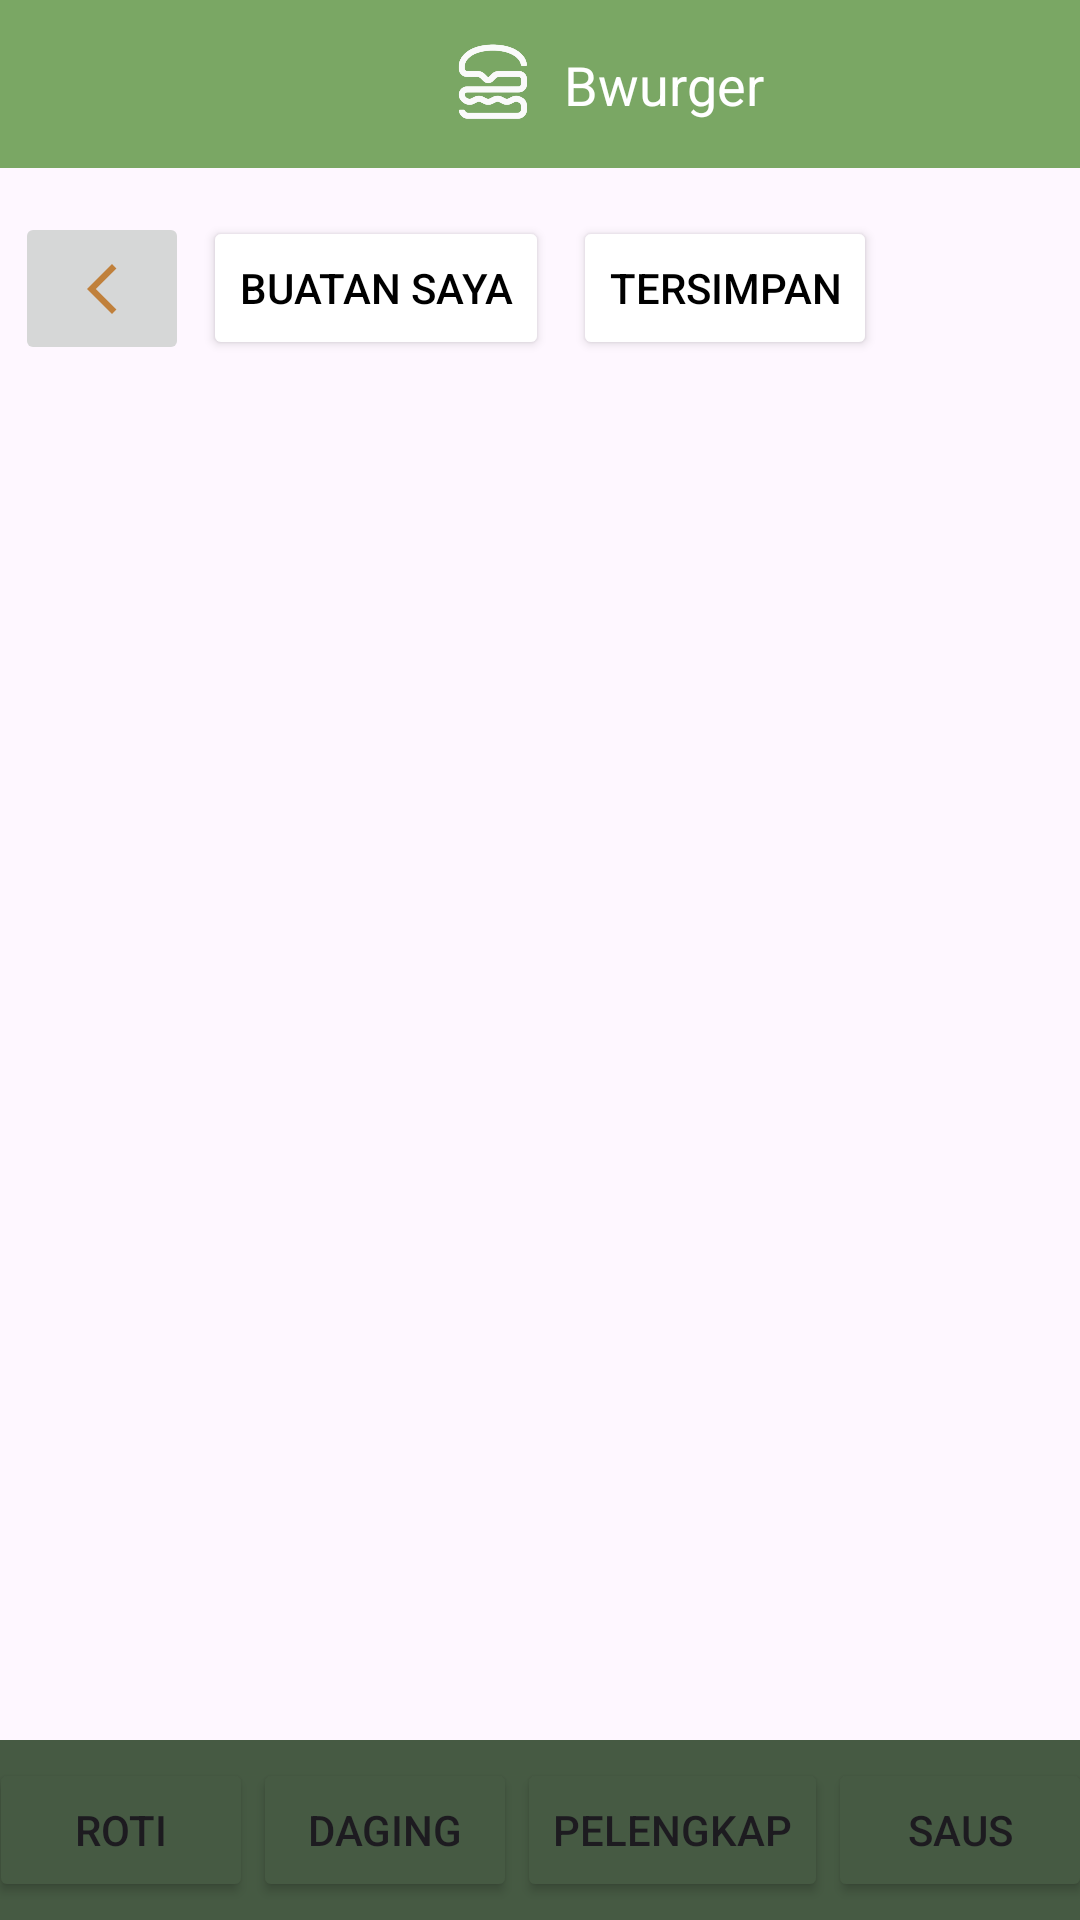

Icon click points for this 1080 x 1920 phone screenshot, format (x,y):
arrow back: (102,288)
